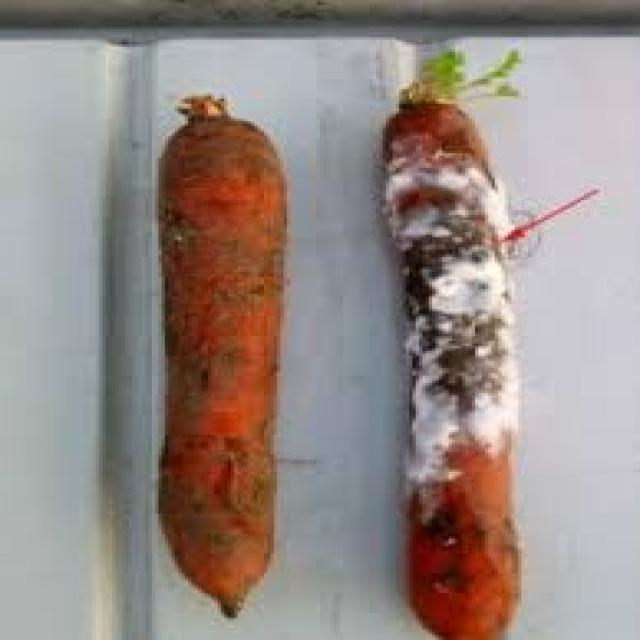Stale_Carrot: (370, 86, 531, 629), (153, 94, 286, 582)
